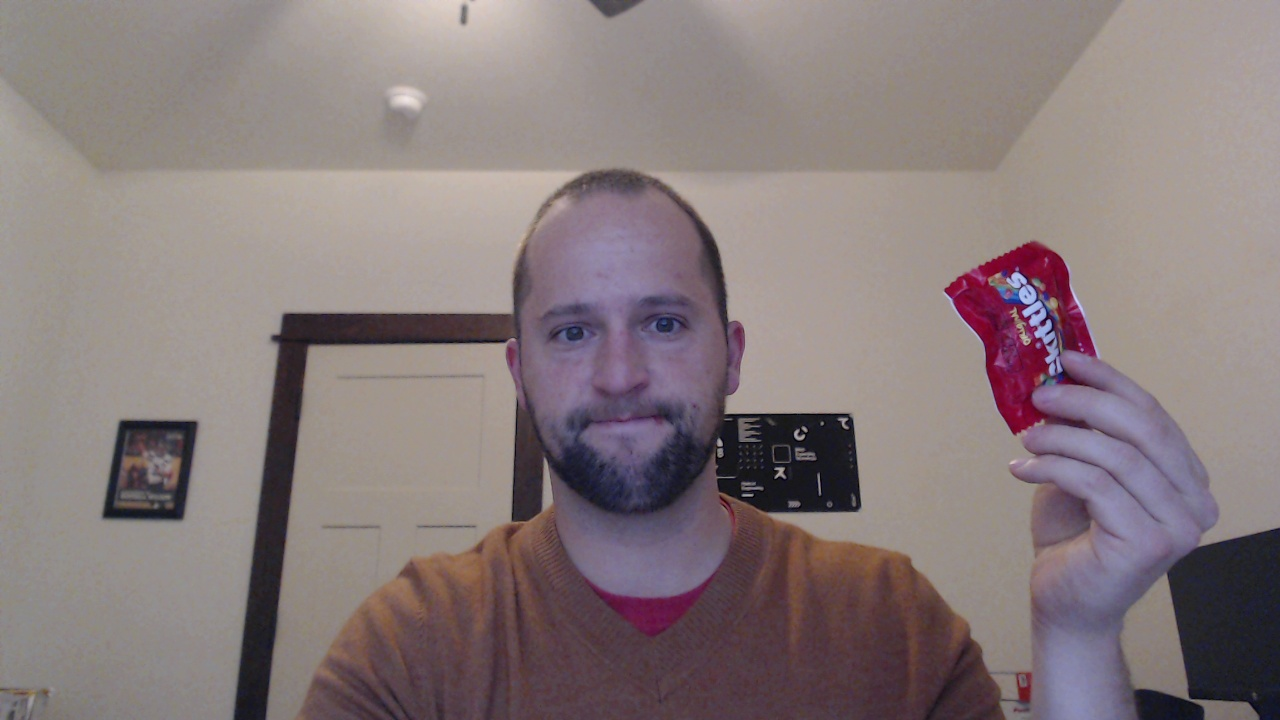skittles: (916, 217, 1127, 436)
